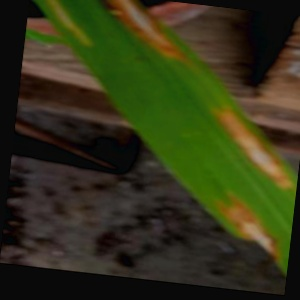Brown_Spot: (179, 171, 284, 257), (210, 98, 296, 190), (95, 0, 182, 56), (36, 0, 95, 52)
